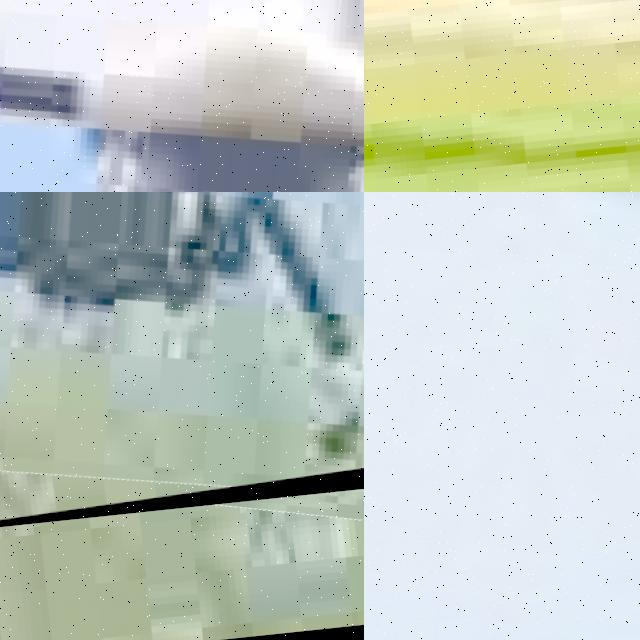drone: (0, 192, 364, 549), (364, 192, 640, 640), (0, 0, 364, 192)
